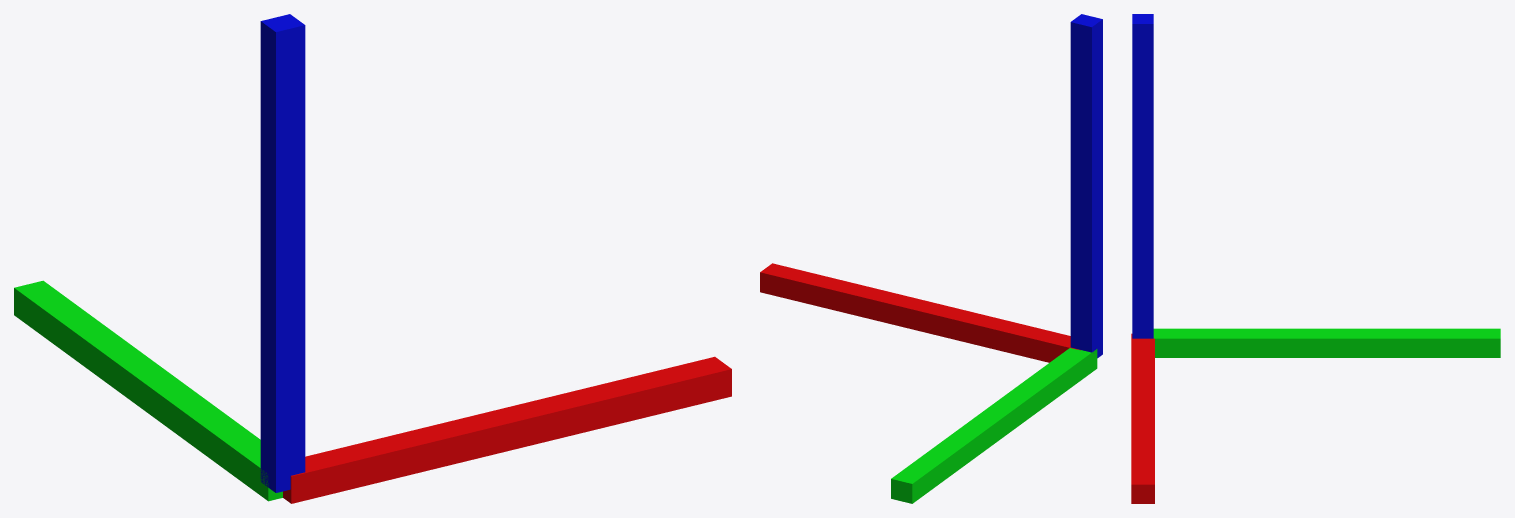
File: GizmoScale.fbx
The picture shows the model from 3 angles, left to right: view 1: azimuth 30°, elevation 25°; view 2: azimuth 150°, elevation 25°; view 3: azimuth 270°, elevation 25°; orthographic projection. The views are drawn at different scales.
Parts seen in each view (by area): view 1: ZAxis, XAxis, YAxis; view 2: ZAxis, XAxis, YAxis; view 3: YAxis, ZAxis, XAxis.
Boxes of the visible parts, box(x1,y1,x2,y2) form: ZAxis: box(260, 14, 305, 492); XAxis: box(283, 356, 731, 503); YAxis: box(14, 280, 282, 501); ZAxis: box(1070, 14, 1102, 358); XAxis: box(760, 263, 1080, 362); YAxis: box(891, 348, 1097, 503); YAxis: box(1153, 328, 1500, 357); ZAxis: box(1132, 14, 1153, 338); XAxis: box(1131, 333, 1154, 503).
Bounding box in the file's own units: 207 × 206 × 207.
